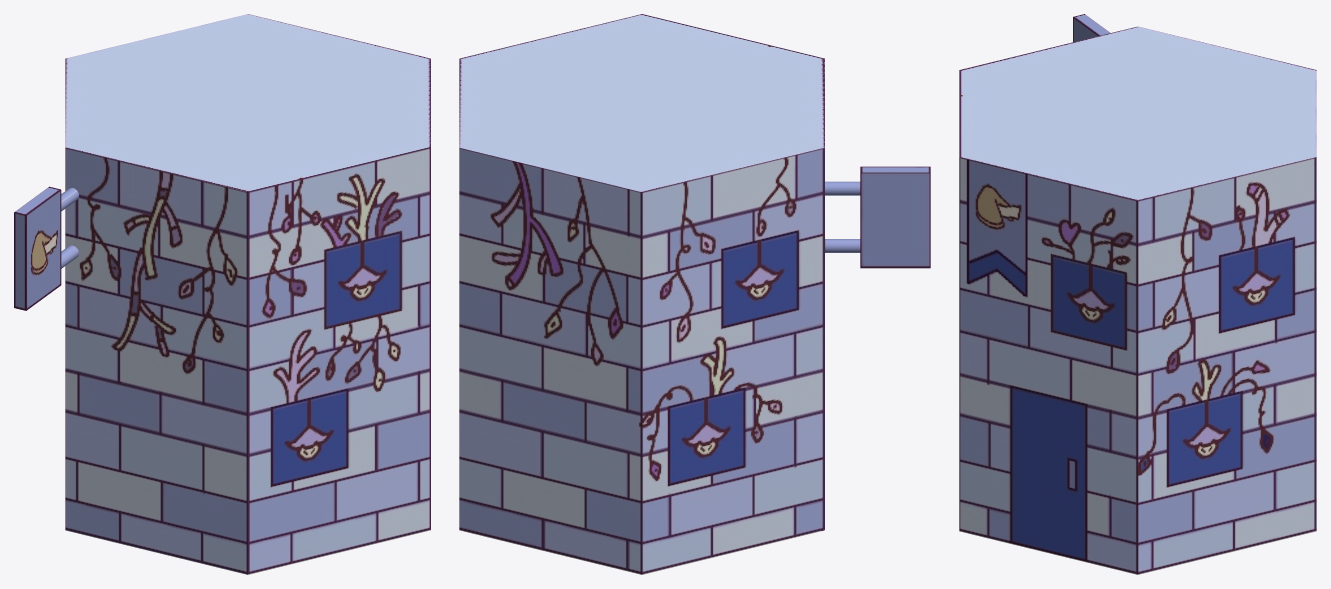
The model's file is D_Building16.fbx.
3 views of the same model, side by side, from view 1: azimuth 30°, elevation 25°; view 2: azimuth 150°, elevation 25°; view 3: azimuth 270°, elevation 25° (orthographic). The views are drawn at different scales.
Visible parts, largest first — view 1: Cylinder002; view 2: Cylinder002; view 3: Cylinder002.
Boxes of the visible parts, bbox=[...] form: Cylinder002: bbox=[14, 14, 430, 574]; Cylinder002: bbox=[459, 14, 930, 574]; Cylinder002: bbox=[959, 14, 1316, 574].
Size of the model in its own units: 364 by 300 by 260.
1 material, 1 textured.
